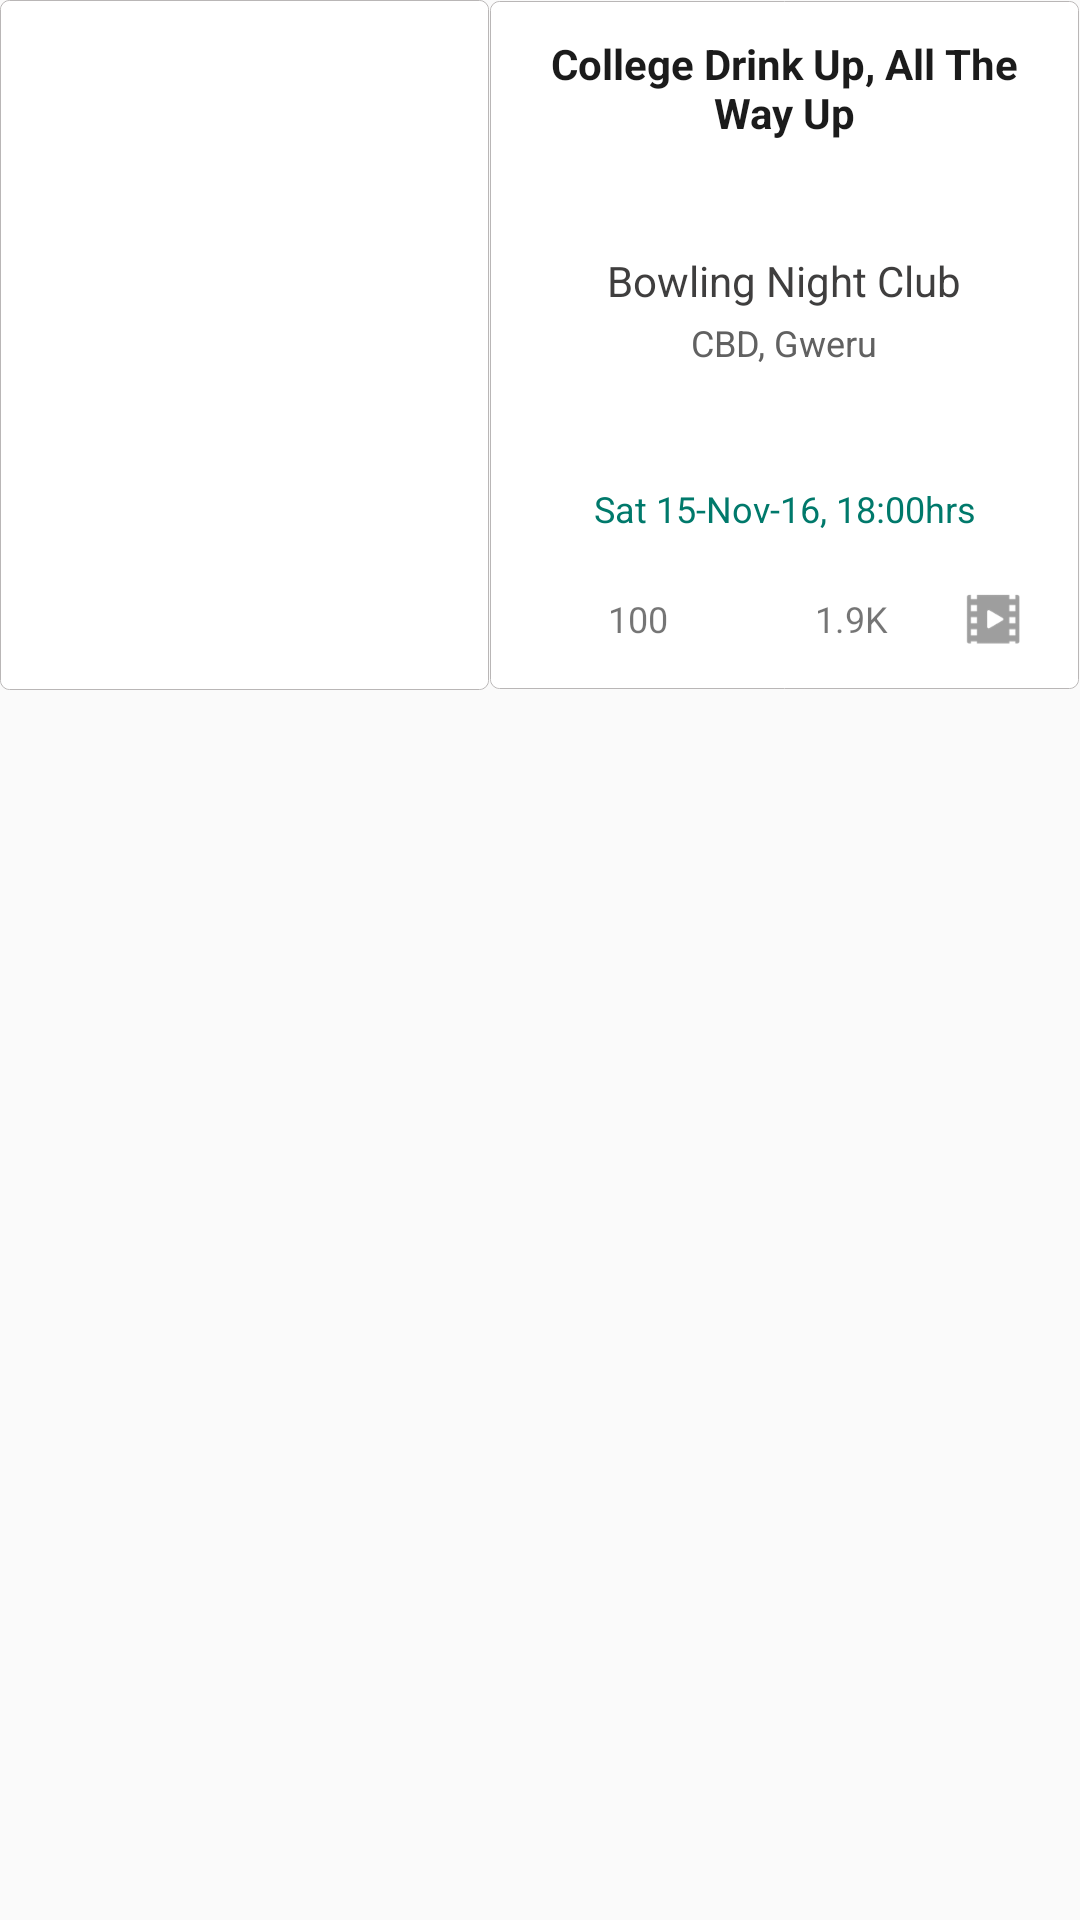

Locate icon controls on the screen. Image size 1080 × 1920, boxes as (x1, y1, x2, y2).
video: (967, 595, 1020, 644)
